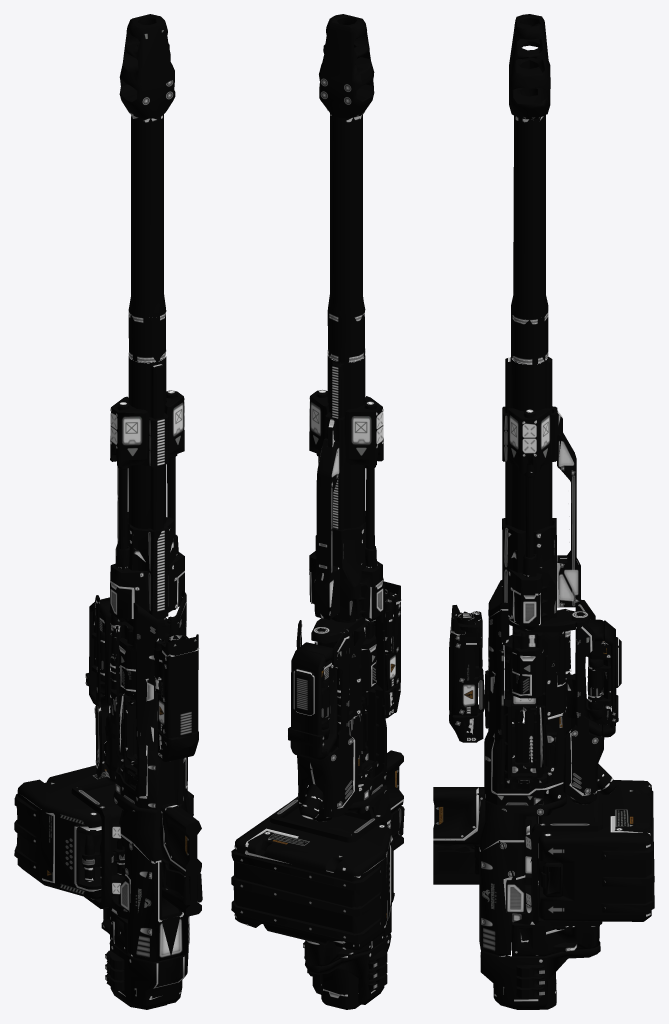
Rendered from 11-series-broadsword-cannon.glb.
The picture shows the model from 3 angles, left to right: view 1: azimuth 30°, elevation 25°; view 2: azimuth 150°, elevation 25°; view 3: azimuth 270°, elevation 25°; orthographic projection.
Parts seen in each view (by area): view 1: core_l1; view 2: core_l1; view 3: core_l1.
Boxes of the visible parts, bbox=[...] form: core_l1: bbox=[14, 14, 202, 1009]; core_l1: bbox=[231, 14, 404, 1009]; core_l1: bbox=[433, 14, 654, 1009].
Bounding box in the file's own units: 0.5185 × 3.68 × 0.7507.
Materials: 10 (5 with a texture image).
